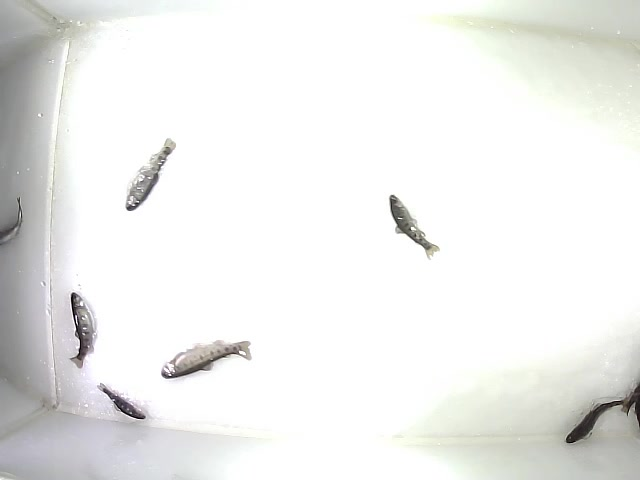fish: (124, 135, 178, 213), (159, 338, 253, 381), (388, 193, 441, 261), (565, 395, 631, 445), (67, 290, 97, 370), (97, 382, 147, 421)
